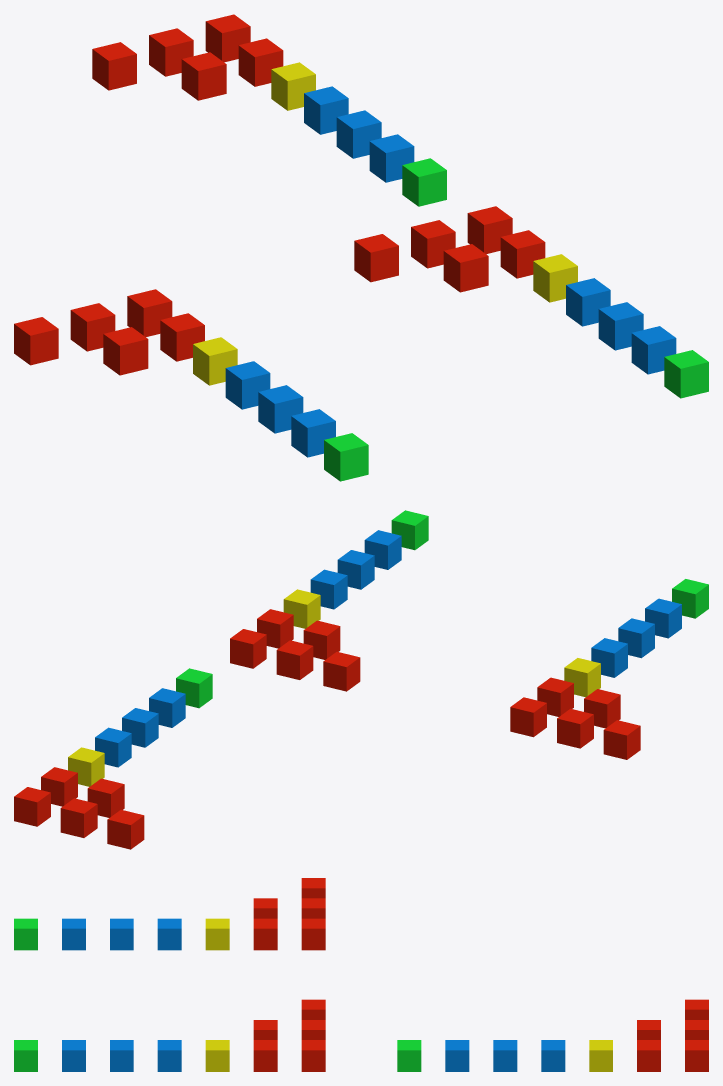
File: 45545-relax-name-sanitization.gltf
3 renders of one model, top to bottom at view 1: azimuth 30°, elevation 25°; view 2: azimuth 150°, elevation 25°; view 3: azimuth 270°, elevation 25°, orthographic. The views are drawn at different scales.
Visible parts, largest first — view 1: Animated_Disallowed_Clashing_@, Hinted_Disallowed_Clashing_@-col, Basic_Disallowed_Clashing_@, Animated_Disallowed_Clashing_Deep_Tree_@@@, Hinted_Disallowed_Clashing_Deep_Tree_@@@-col, Basic_Alphanumeric123, Basic_Disallowed_Clashing_Deep_Tree_@@@, Hinted_Alphanumeric123-col, Animated_Alphanumeric123, Basic_Katakana_ゴドツ, Animated_Emoji_😀🤖, Hinted_Katakana_ゴドツ-col (+18 smaller); view 2: Basic_Disallowed_Clashing_Deep_Tree_@@, Hinted_Disallowed_Clashing_Deep_Tree_@@-col, Basic_Disallowed_Clashing_Deep_Tree_@@@, Hinted_Disallowed_Clashing_Deep_Tree_@@@-col, Animated_Disallowed_Clashing_Deep_Tree_@@@, Hinted_Disallowed_Clashing_Deep_Tree_@-col, Basic_Disallowed_Clashing_Deep_Tree_@, Animated_Disallowed_Clashing_Deep_Tree_@@, Animated_Disallowed_Clashing_Deep_Tree_@, Basic_Katakana_ゴドツ, Basic_AllowedSymbols_!#$%^&*()-=[]{}';<>,~, Basic_Alphanumeric123 (+18 smaller); view 3: Animated_AllowedSymbols_!#$%^&*()-=[]{}';<>,~, Animated_Disallowed_Clashing_., Animated_Disallowed_Clashing_Deep_Tree_@, Animated_Disallowed_Non-clashing_.:@"/, Basic_AllowedSymbols_!#$%^&*()-=[]{}';<>,~, Basic_Disallowed_Non-clashing_.:@"/, Basic_Disallowed_Clashing_., Basic_Disallowed_Clashing_Deep_Tree_@, Hinted_AllowedSymbols_!#$%^&*()-=[]{}';<>,~-col, Hinted_Katakana_ゴドツ-col, Hinted_Emoji_😀🤖-col, Hinted_Alphanumeric123-col (+18 smaller).
Part boxes in pixels (x1,y1,x2,y2): Animated_Disallowed_Clashing_@: [103, 327, 148, 375]; Hinted_Disallowed_Clashing_@-col: [181, 52, 226, 100]; Basic_Disallowed_Clashing_@: [443, 244, 488, 292]; Animated_Disallowed_Clashing_Deep_Tree_@@@: [14, 317, 58, 365]; Hinted_Disallowed_Clashing_Deep_Tree_@@@-col: [92, 42, 136, 90]; Basic_Alphanumeric123: [664, 350, 708, 398]; Basic_Disallowed_Clashing_Deep_Tree_@@@: [354, 234, 398, 282]; Hinted_Alphanumeric123-col: [402, 158, 446, 206]; Animated_Alphanumeric123: [324, 433, 368, 481]; Basic_Katakana_ゴドツ: [631, 326, 676, 374]; Animated_Emoji_😀🤖: [258, 385, 303, 433]; Hinted_Katakana_ゴドツ-col: [369, 134, 414, 182]; Basic_Disallowed_Clashing_Deep_Tree_@@: [276, 640, 313, 679]; Hinted_Disallowed_Clashing_Deep_Tree_@@-col: [60, 798, 97, 837]; Basic_Disallowed_Clashing_Deep_Tree_@@@: [323, 651, 360, 691]; Hinted_Disallowed_Clashing_Deep_Tree_@@@-col: [107, 809, 144, 849]; Animated_Disallowed_Clashing_Deep_Tree_@@@: [603, 720, 640, 759]; Hinted_Disallowed_Clashing_Deep_Tree_@-col: [14, 787, 50, 826]; Basic_Disallowed_Clashing_Deep_Tree_@: [230, 629, 266, 668]; Animated_Disallowed_Clashing_Deep_Tree_@@: [557, 708, 593, 748]; Animated_Disallowed_Clashing_Deep_Tree_@: [510, 697, 546, 737]; Basic_Katakana_ゴドツ: [364, 530, 401, 569]; Basic_AllowedSymbols_!#$%^&*()-=[]{}';<>,~: [310, 569, 347, 609]; Basic_Alphanumeric123: [391, 510, 428, 550]; Animated_AllowedSymbols_!#$%^&*()-=[]{}';<>,~: [157, 918, 181, 950]; Animated_Disallowed_Clashing_.: [253, 918, 277, 950]; Animated_Disallowed_Clashing_Deep_Tree_@: [301, 918, 325, 950]; Animated_Disallowed_Non-clashing_.:@"/: [205, 918, 229, 950]; Basic_AllowedSymbols_!#$%^&*()-=[]{}';<>,~: [157, 1040, 181, 1071]; Basic_Disallowed_Non-clashing_.:@"/: [205, 1040, 229, 1071]; Basic_Disallowed_Clashing_.: [253, 1040, 277, 1071]; Basic_Disallowed_Clashing_Deep_Tree_@: [301, 1040, 325, 1071]; Hinted_AllowedSymbols_!#$%^&*()-=[]{}';<>,~-col: [541, 1040, 565, 1071]; Hinted_Katakana_ゴドツ-col: [445, 1040, 469, 1071]; Hinted_Emoji_😀🤖-col: [493, 1040, 517, 1071]; Hinted_Alphanumeric123-col: [397, 1040, 421, 1071].
Bounding box in the file's own units: 34 × 2 × 58.
